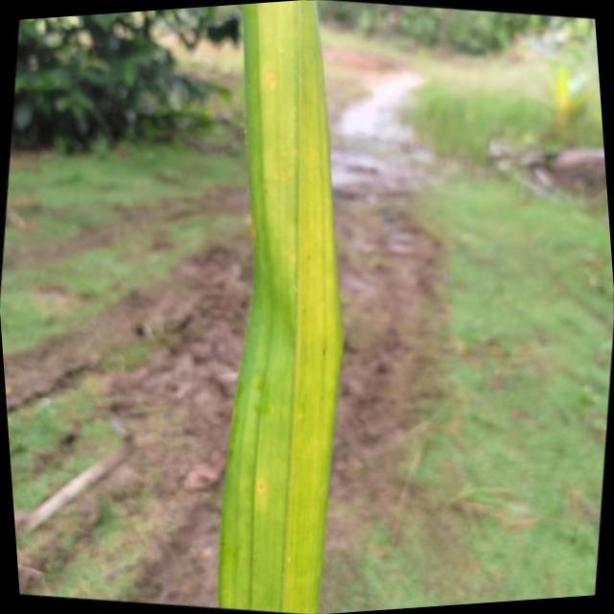nitrogen: (212, 0, 340, 614)
